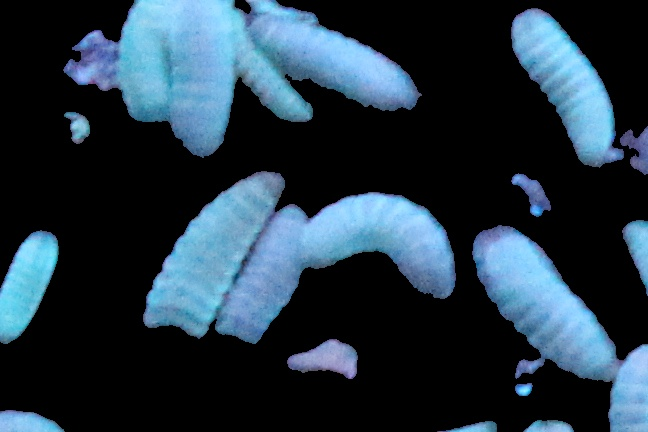larvae: (141, 170, 292, 337), (463, 227, 617, 379), (249, 1, 416, 108), (304, 194, 456, 306), (510, 9, 617, 165), (214, 207, 308, 343), (171, 1, 238, 151), (1, 230, 59, 352), (121, 1, 176, 125), (234, 40, 311, 123), (606, 340, 648, 432)
